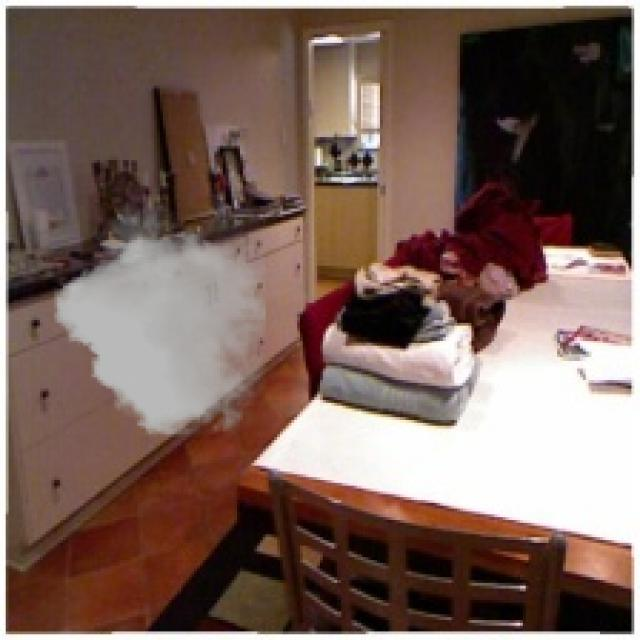smoke: (54, 206, 266, 440)
